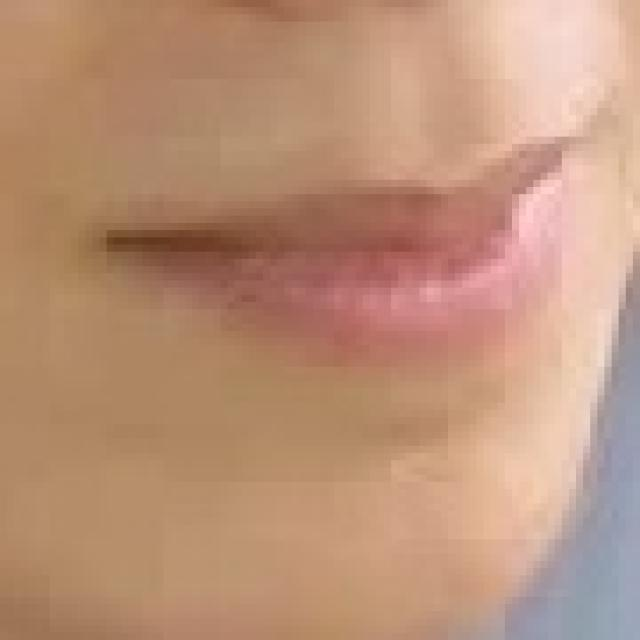closed-mouth: (92, 122, 590, 372)
